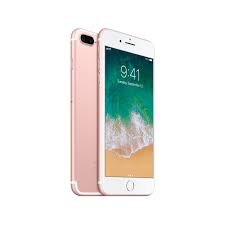iphone: (93, 25, 157, 198)
iphone7: (94, 25, 158, 198)
